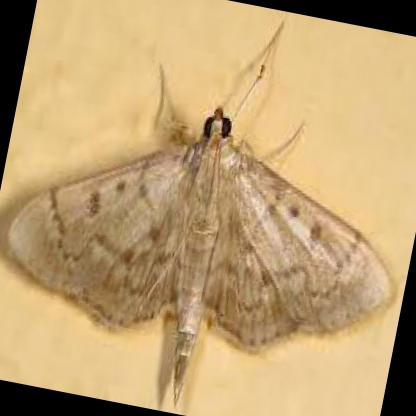Leaf Webber: (3, 19, 389, 402)
